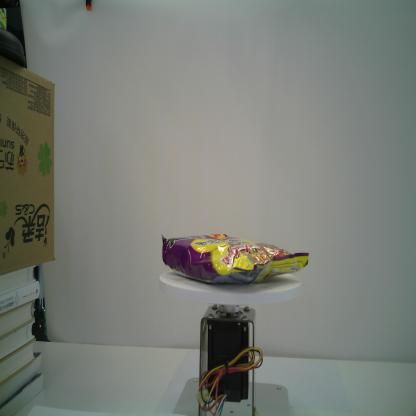Instant Noodles: (161, 232, 310, 286)
